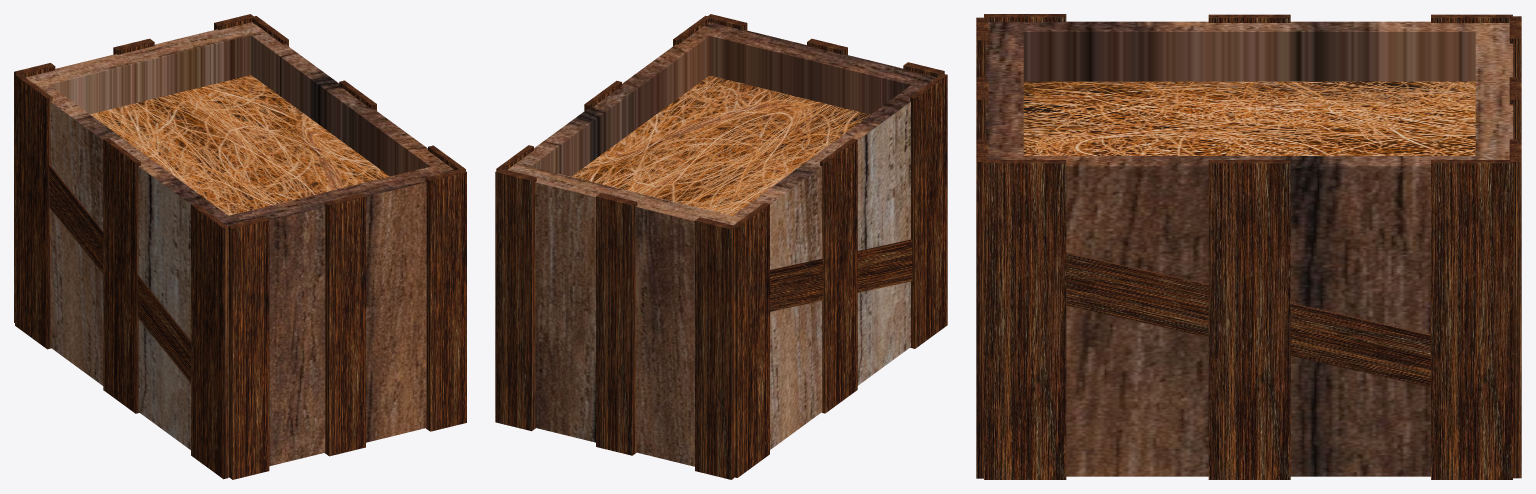
File: Caisse.glb
3 renders of one model, left to right at view 1: azimuth 30°, elevation 25°; view 2: azimuth 150°, elevation 25°; view 3: azimuth 270°, elevation 25°, orthographic. The views are drawn at different scales.
Parts seen in each view (by area): view 1: Cube.004; view 2: Cube.004; view 3: Cube.004.
Part boxes in pixels (x1,y1,x2,y2): Cube.004: [14, 14, 466, 479]; Cube.004: [495, 14, 947, 479]; Cube.004: [976, 14, 1521, 479].
Bounding box in the file's own units: 5.13 × 5.07 × 7.91.
Materials: 3 (3 with a texture image).
